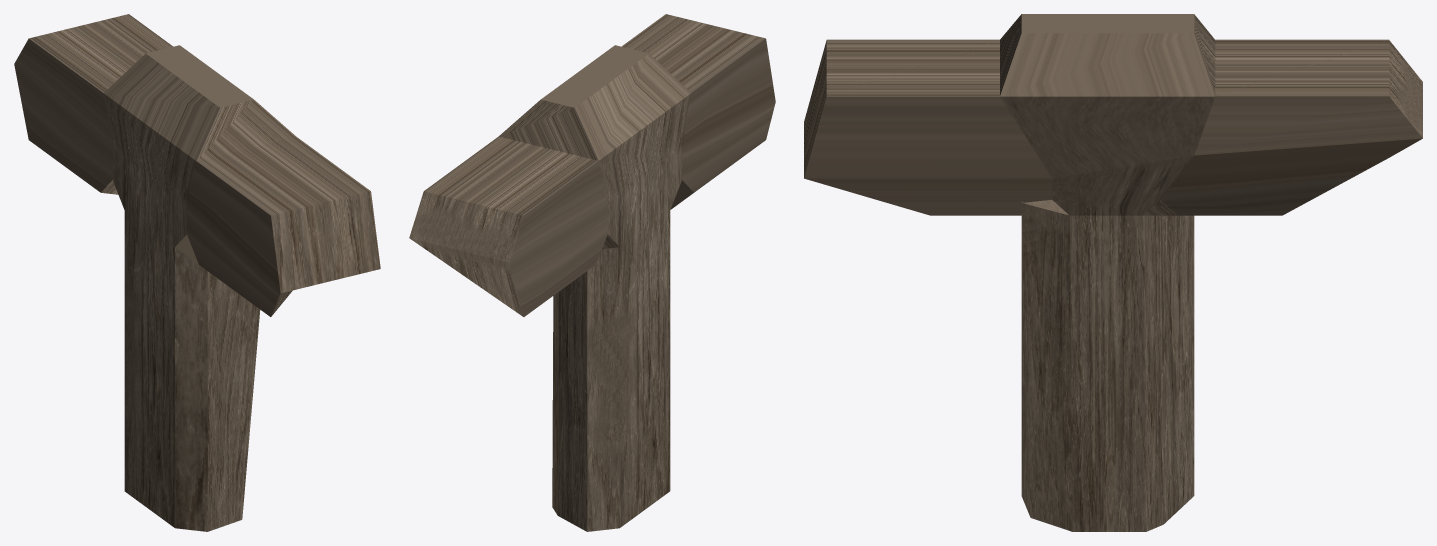
Rendered from epee_poignee.fbx.
The picture shows the model from 3 angles, left to right: view 1: azimuth 30°, elevation 25°; view 2: azimuth 150°, elevation 25°; view 3: azimuth 270°, elevation 25°; orthographic projection. The views are drawn at different scales.
Visible parts, largest first — view 1: Cube; view 2: Cube; view 3: Cube.
Boxes of the visible parts, x1,y1,x2,y2 form: Cube: [14, 14, 380, 531]; Cube: [409, 14, 775, 531]; Cube: [804, 14, 1422, 531].
Bounding box in the file's own units: 69.34 × 281 × 319.
1 material, 1 textured.
